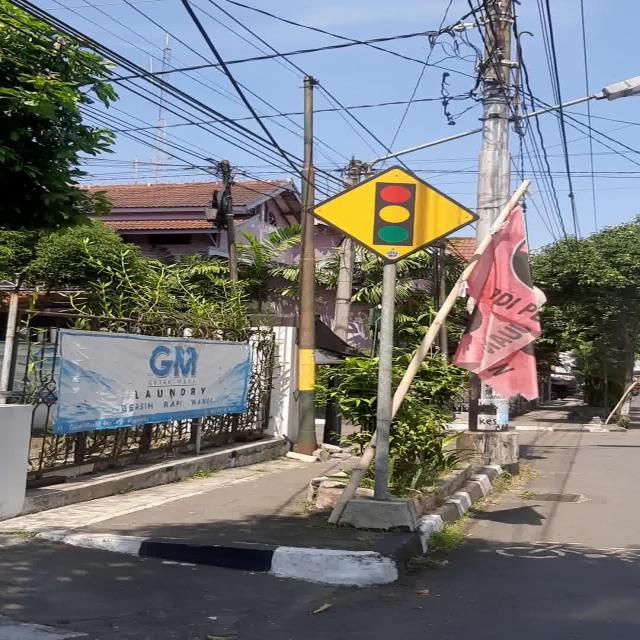Lampu Lalu Lintas: (306, 165, 479, 262)
